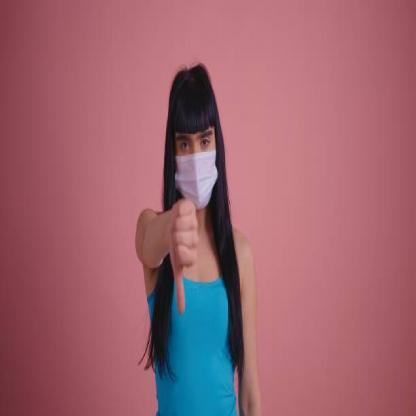thumb_down: (163, 192, 199, 316)
